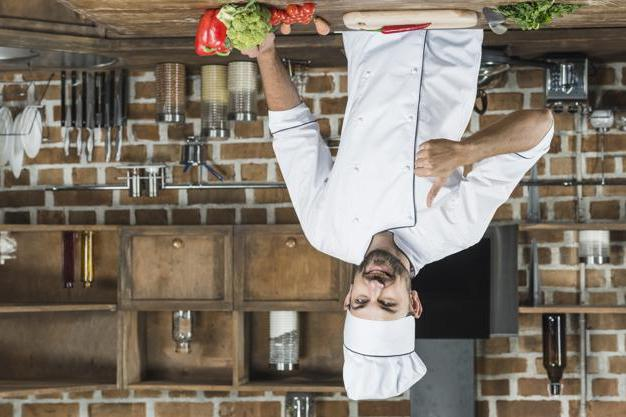thumbsdown: (414, 138, 447, 208)
